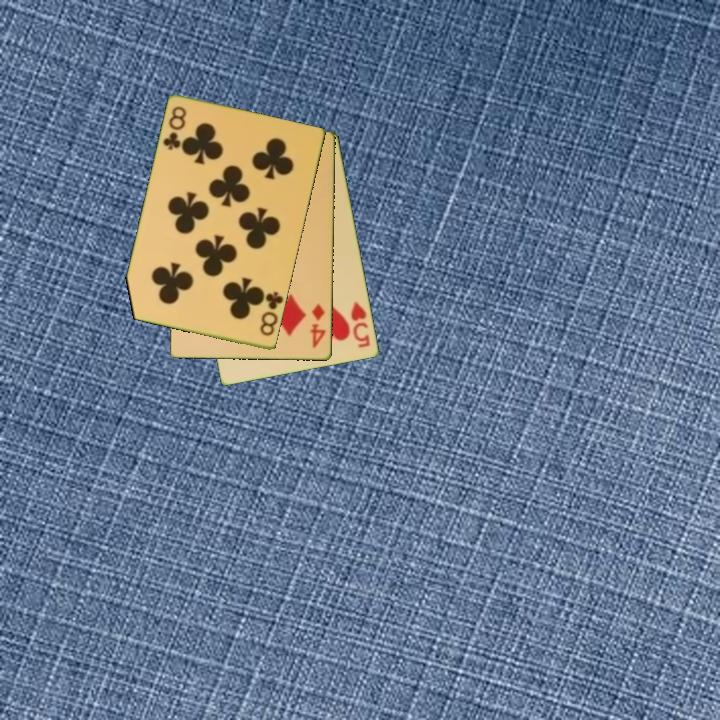4d: (307, 300, 329, 351)
5h: (347, 298, 373, 351)
8c: (160, 103, 190, 153), (257, 288, 286, 339)
